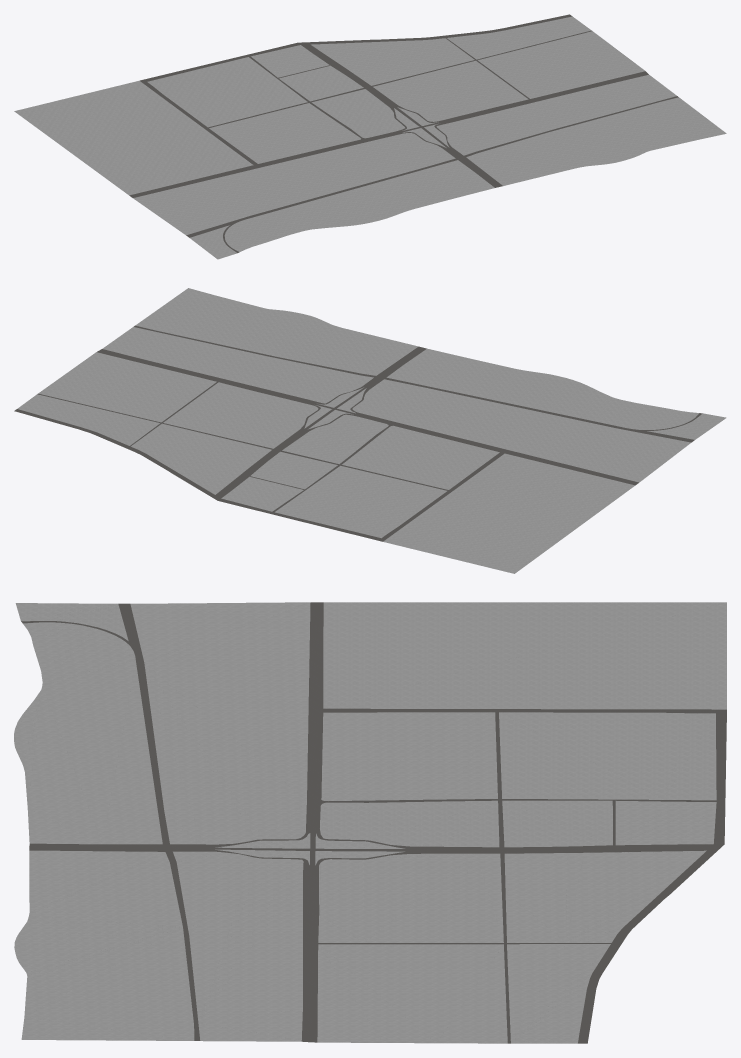
File: koude.glb
3 views of the same model, one above another, from view 1: azimuth 30°, elevation 25°; view 2: azimuth 150°, elevation 25°; view 3: azimuth 270°, elevation 25° (orthographic). The views are drawn at different scales.
Parts seen in each view (by area): view 1: koude; view 2: koude; view 3: koude.
Boxes of the visible parts, x1,y1,x2,y2 form: koude: (14,14,726,259); koude: (14,288,726,573); koude: (14,602,726,1043).
Bounding box in the file's own units: 820 × 2.38e-07 × 560.
Materials: 2 (2 with a texture image).
